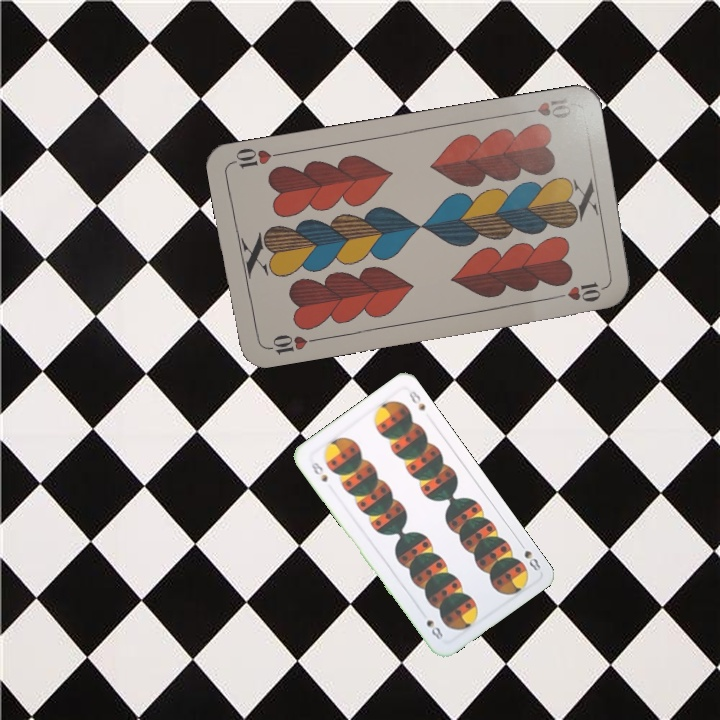H10: (516, 93, 574, 122), (261, 330, 320, 358)
S8: (515, 537, 543, 574), (307, 458, 330, 485)
